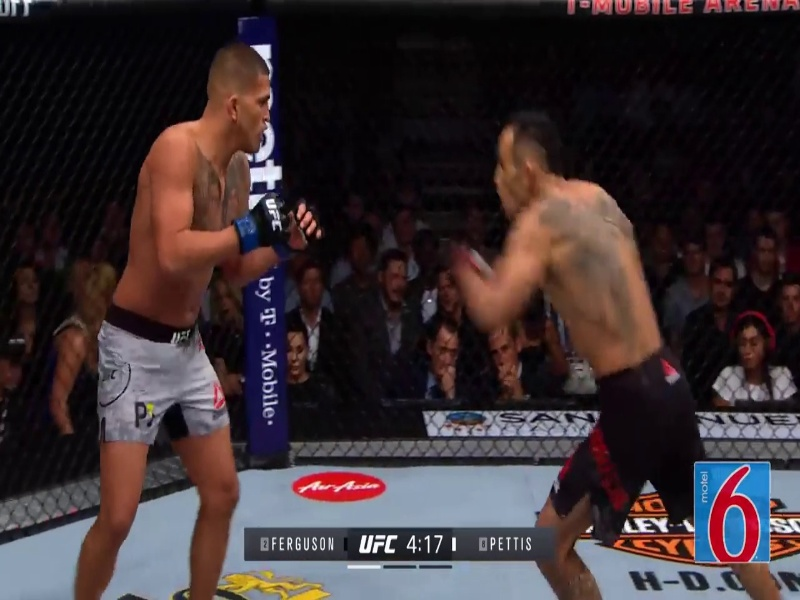fighter: (434, 97, 789, 600), (70, 41, 324, 600)
